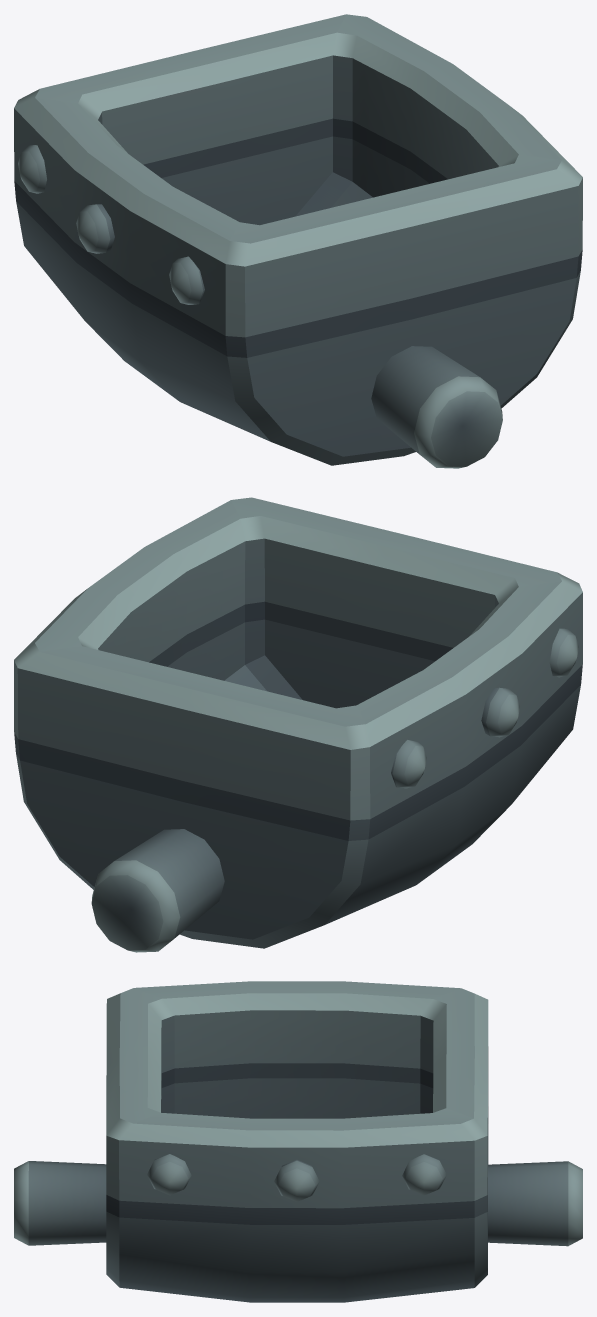
File: minecart_bucket_tipping_out.fbx
3 views of the same model, one above another, from view 1: azimuth 30°, elevation 25°; view 2: azimuth 150°, elevation 25°; view 3: azimuth 270°, elevation 25° (orthographic). The views are drawn at different scales.
Visible parts, largest first — view 1: minecart_bucket_anim; view 2: minecart_bucket_anim; view 3: minecart_bucket_anim.
Boxes of the visible parts, x1,y1,x2,y2 form: minecart_bucket_anim: (14, 14, 582, 468); minecart_bucket_anim: (14, 497, 582, 952); minecart_bucket_anim: (14, 981, 582, 1302).
Bounding box in the file's own units: 135 × 76.93 × 180.
